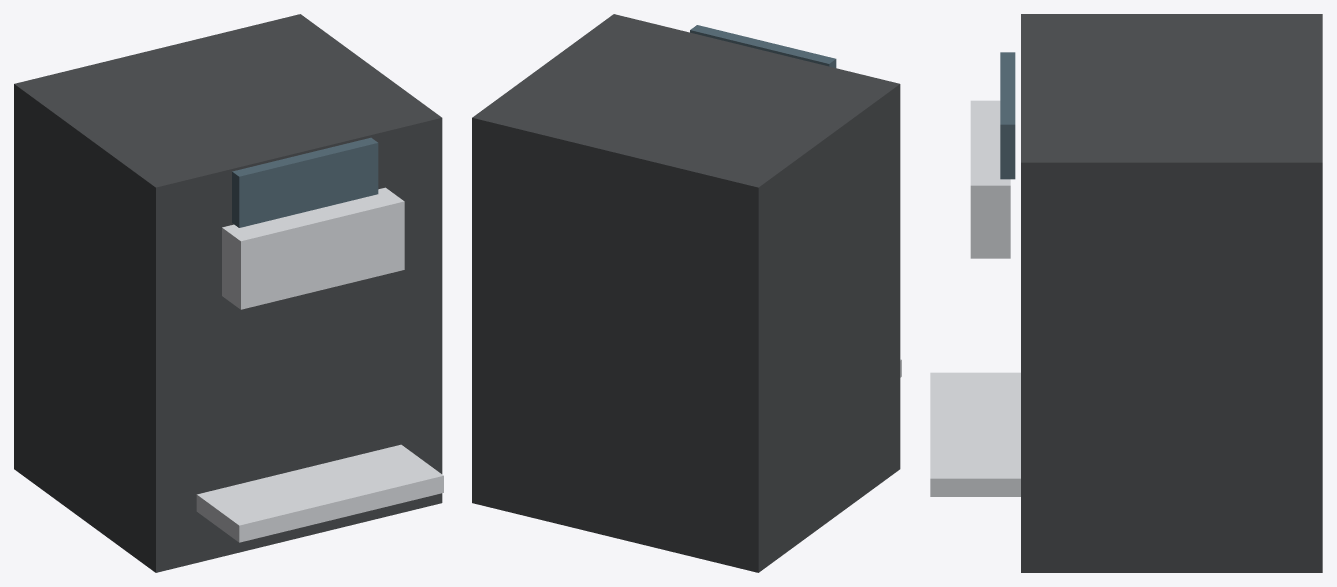
Rendered from road-car-showroom-lineup-coffee-machine-a023f1f2__15157.glb.
3 renders of one model, left to right at view 1: azimuth 30°, elevation 25°; view 2: azimuth 150°, elevation 25°; view 3: azimuth 270°, elevation 25°, orthographic. The views are drawn at different scales.
Parts seen in each view (by area): view 1: coffee-machine; view 2: coffee-machine; view 3: coffee-machine.
Boxes of the visible parts, bbox=[...] form: coffee-machine: bbox=[14, 14, 443, 572]; coffee-machine: bbox=[472, 14, 901, 572]; coffee-machine: bbox=[930, 14, 1322, 572].
Bounding box in the file's own units: 0.35 × 0.45 × 0.39.
